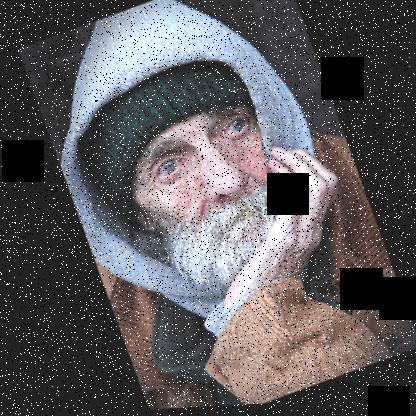Male: (108, 97, 308, 310)
